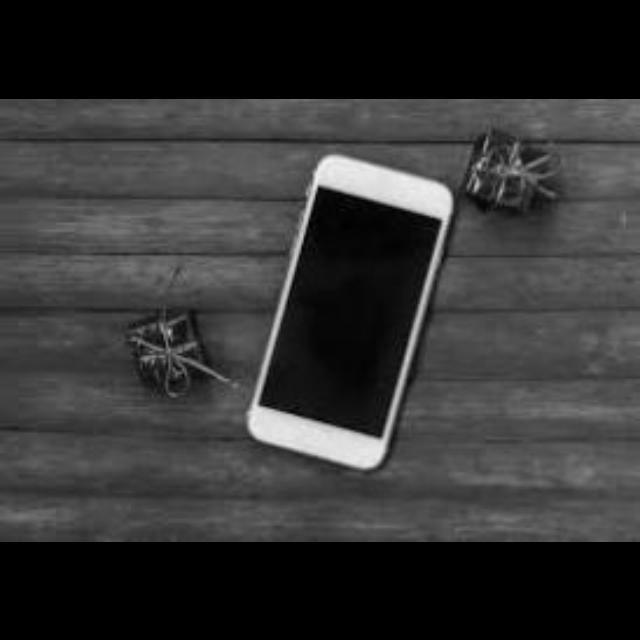fake: (239, 140, 458, 490)
